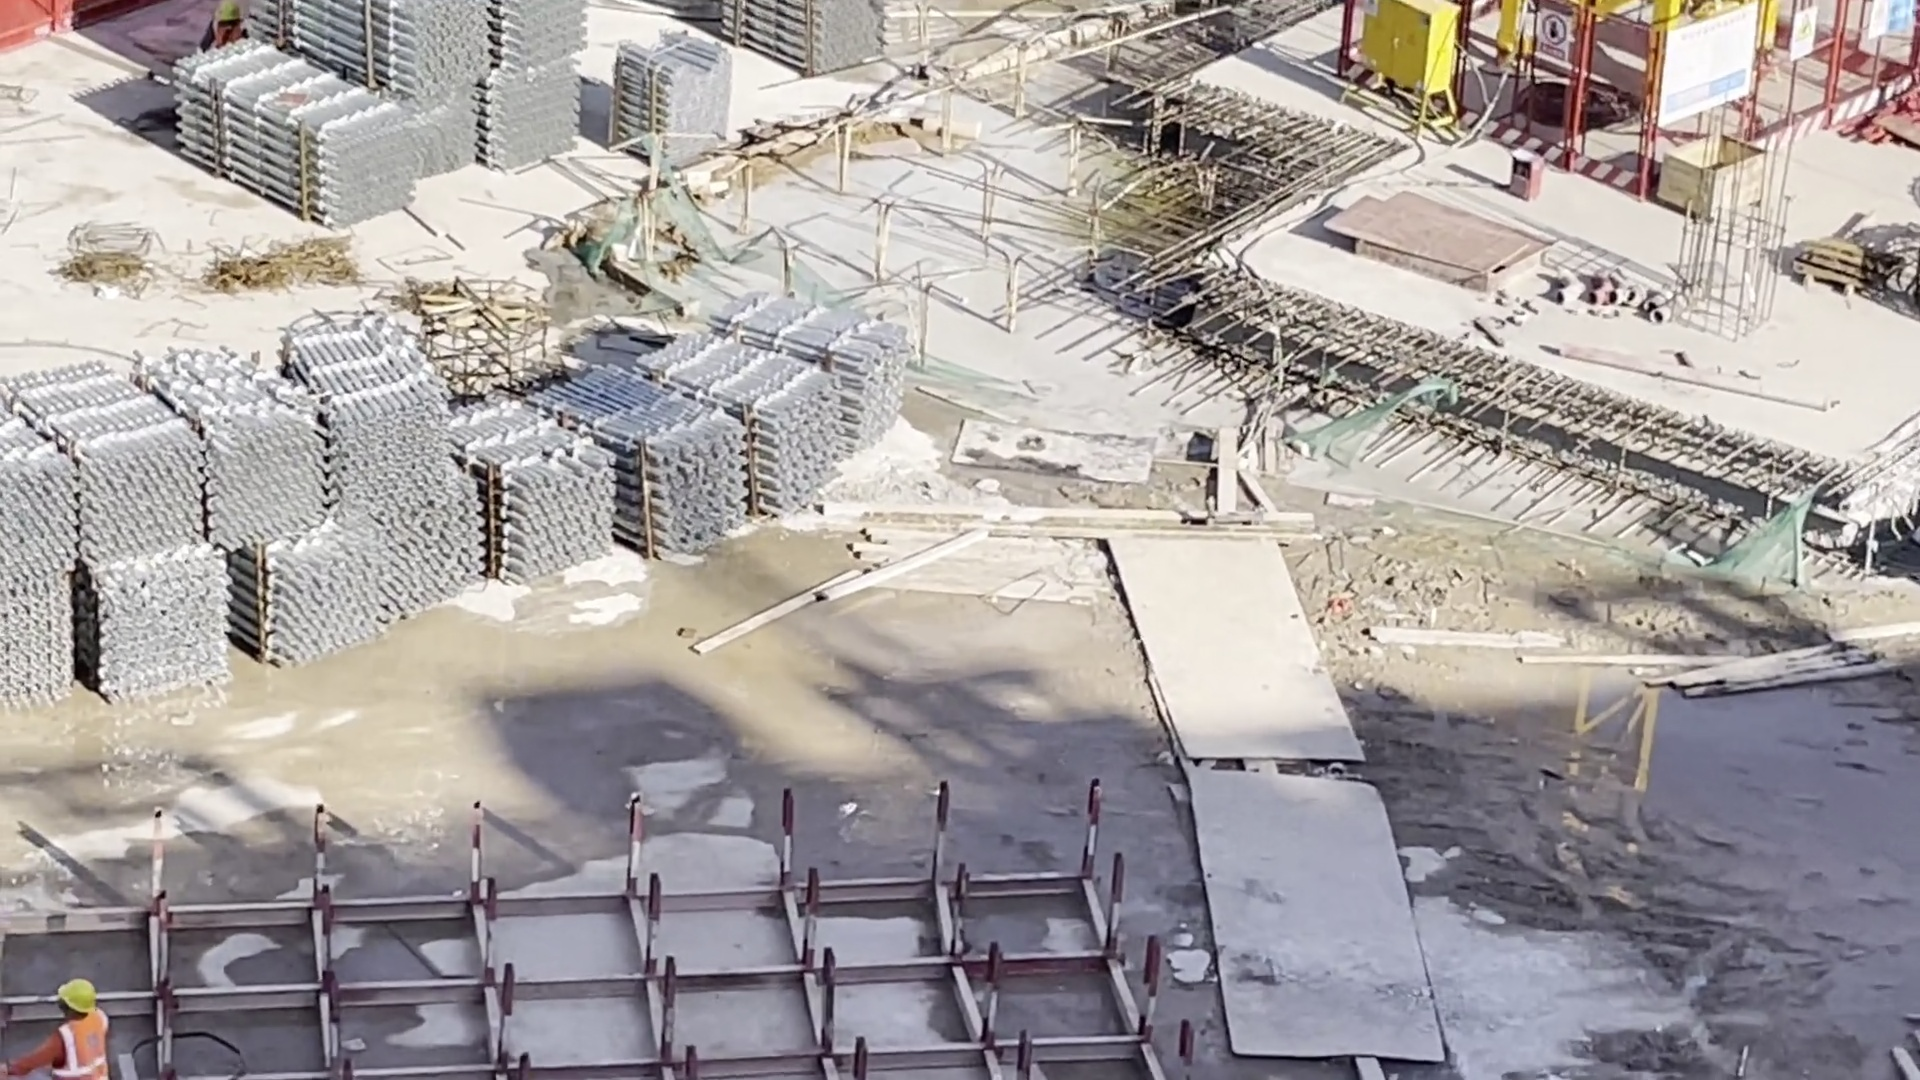board: (1320, 172, 1537, 294)
ebox: (1351, 1, 1460, 124)
helmet: (54, 973, 101, 1010)
person: (13, 972, 116, 1080)
scaffold: (1, 282, 899, 698), (172, 1, 583, 228), (604, 36, 740, 165)
vest: (45, 1014, 121, 1080)
